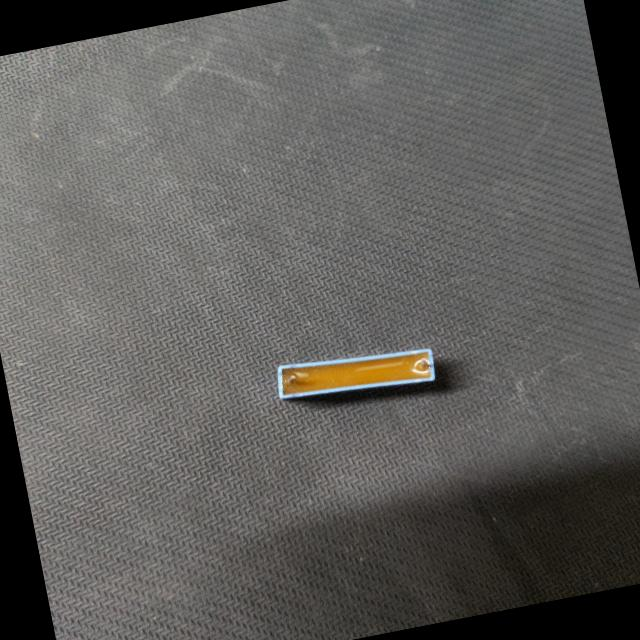capacitor: (261, 326, 454, 426)
